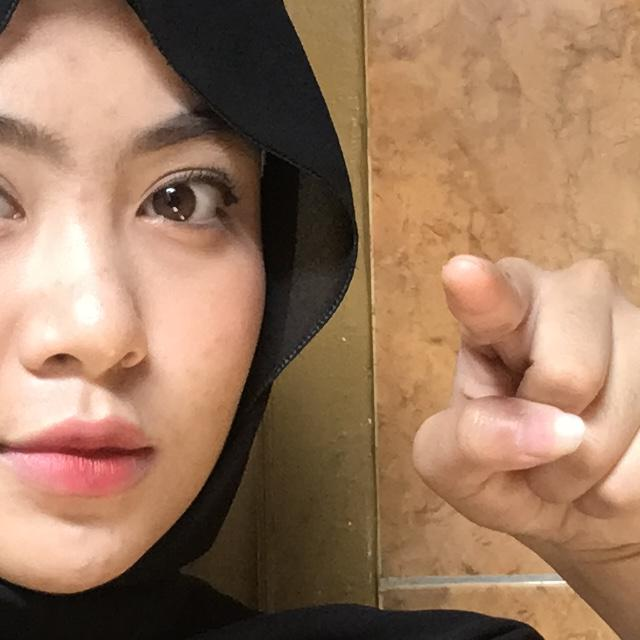kamu: (310, 156, 640, 640)
